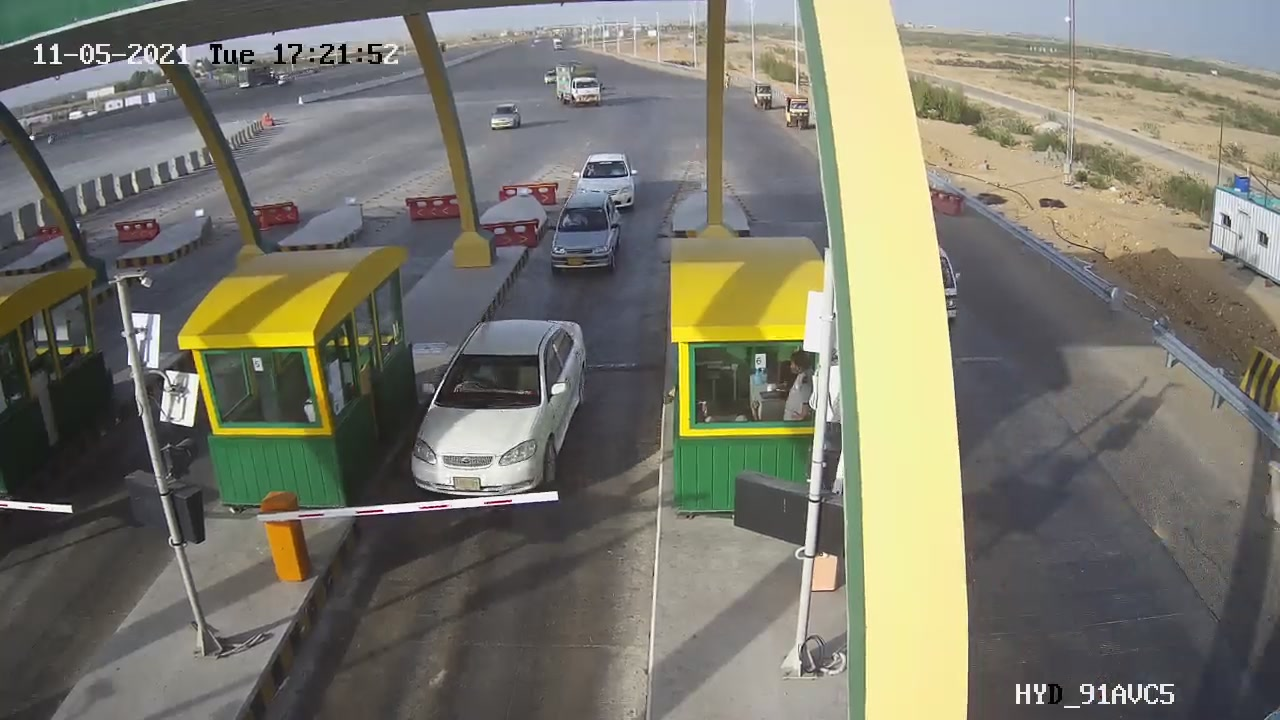F1: (398, 301, 601, 513), (539, 186, 634, 286)
